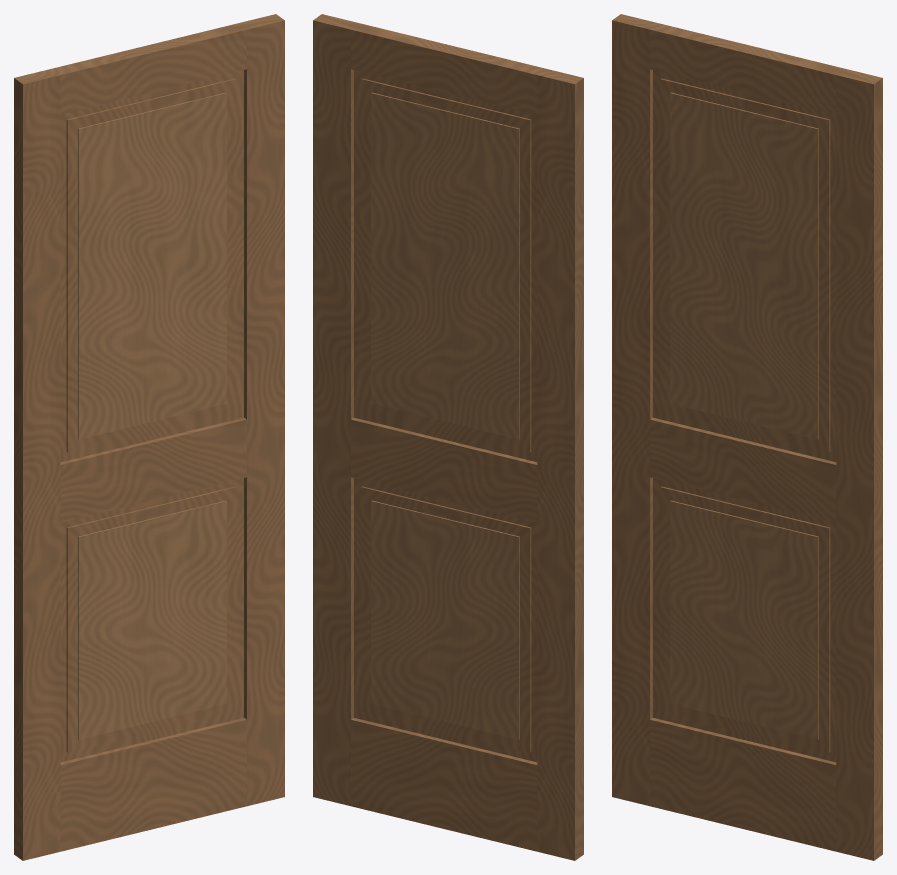
File: latch_door.glb
3 renders of one model, left to right at view 1: azimuth 30°, elevation 25°; view 2: azimuth 150°, elevation 25°; view 3: azimuth 330°, elevation 25°, orthographic.
Visible parts, largest first — view 1: latch_door; view 2: latch_door; view 3: latch_door.
Boxes of the visible parts, x1,y1,x2,y2 form: latch_door: (14, 14, 284, 860); latch_door: (313, 14, 583, 860); latch_door: (612, 14, 882, 860).
Bounding box in the file's own units: 0.76 × 2.15 × 0.044.
Materials: 2 (2 with a texture image).
